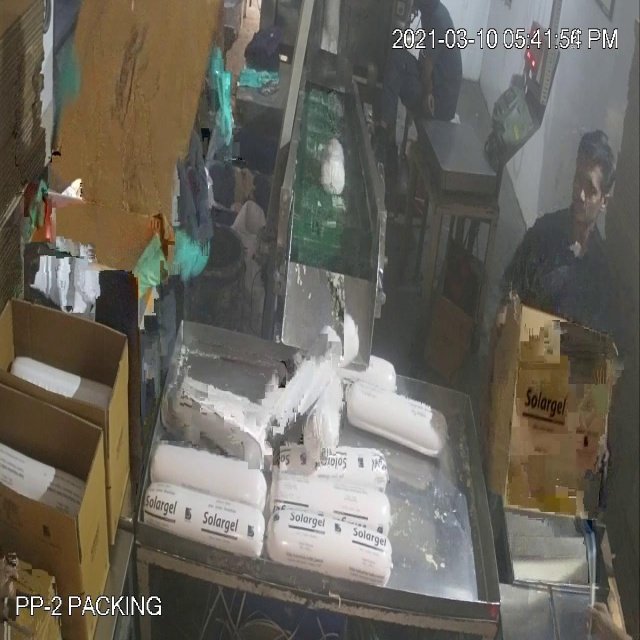Sin_guantes: (464, 282, 519, 473), (416, 50, 440, 137)
